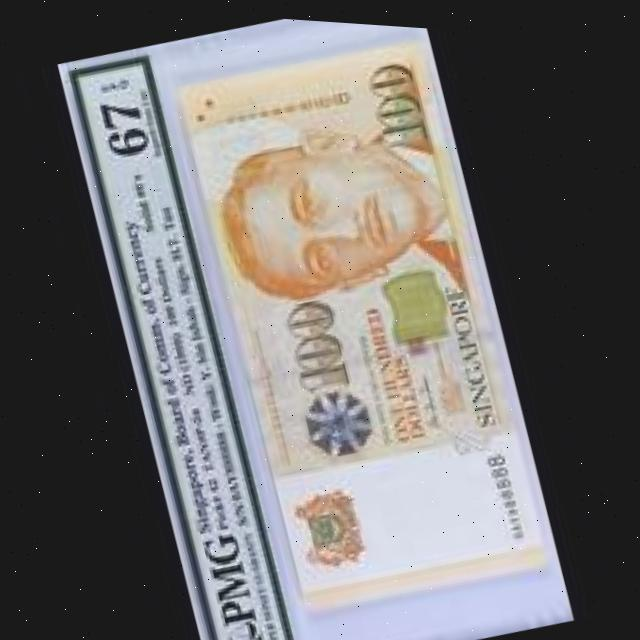banknote: (145, 8, 580, 640), (271, 285, 365, 396), (356, 41, 437, 154)
